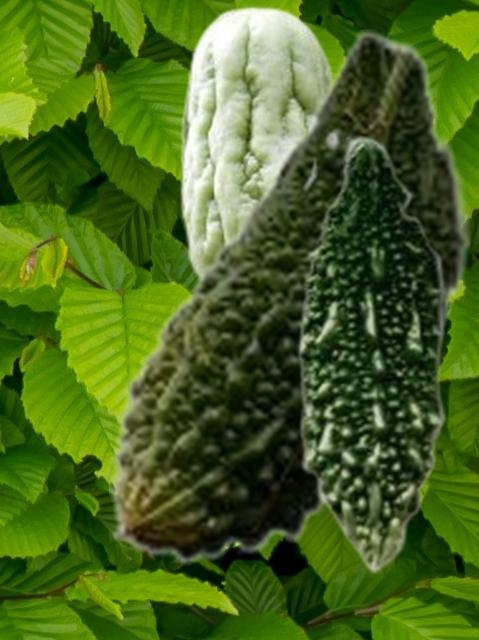ampalaya: (109, 29, 471, 564), (296, 129, 456, 575), (179, 5, 335, 278)
